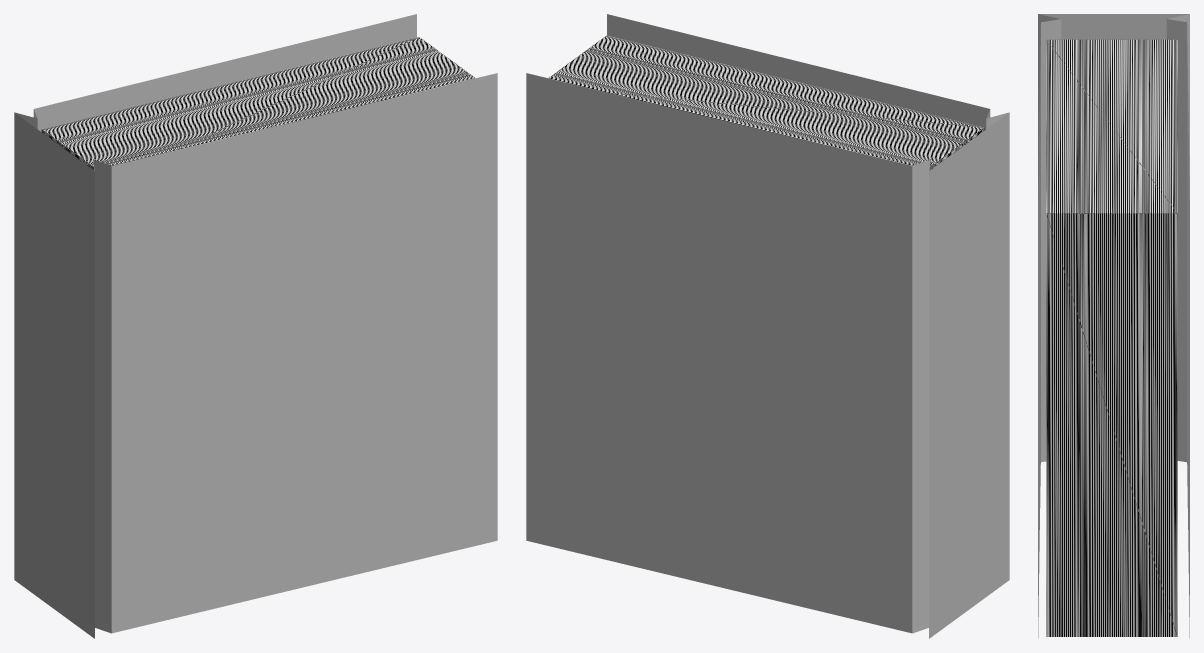
File: Book.fbx
The picture shows the model from 3 angles, left to right: view 1: azimuth 30°, elevation 25°; view 2: azimuth 150°, elevation 25°; view 3: azimuth 270°, elevation 25°; orthographic projection. The views are drawn at different scales.
Visible parts, largest first — view 1: Cover, Pages; view 2: Cover, Pages; view 3: Pages, Cover.
Part boxes in pixels (x1,y1,x2,y2): Cover: (14, 14, 497, 638); Pages: (41, 37, 475, 169); Cover: (526, 14, 1009, 638); Pages: (548, 35, 984, 169); Pages: (1046, 39, 1177, 636); Cover: (1038, 14, 1189, 638).
Size of the model in its own units: 42.93 by 47.63 by 14.88.
